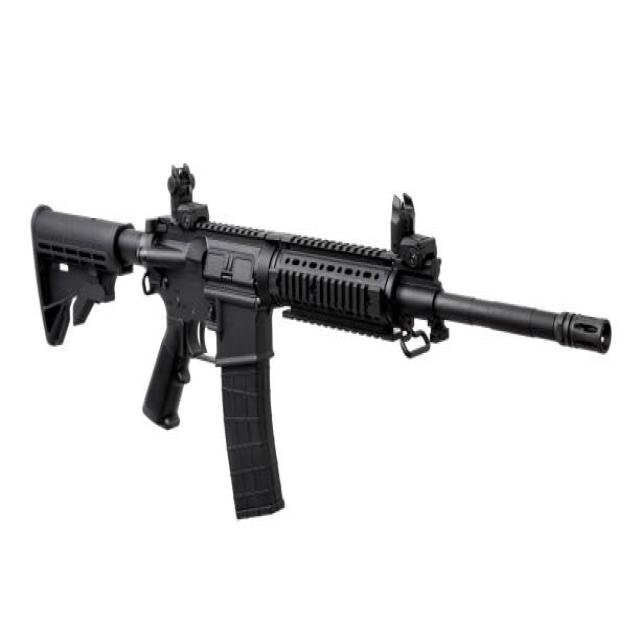rifle: (26, 156, 618, 532)
